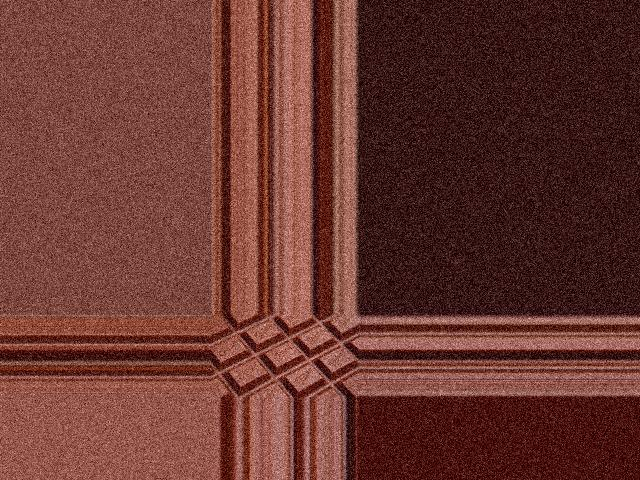chocolate: (211, 317, 354, 398)
